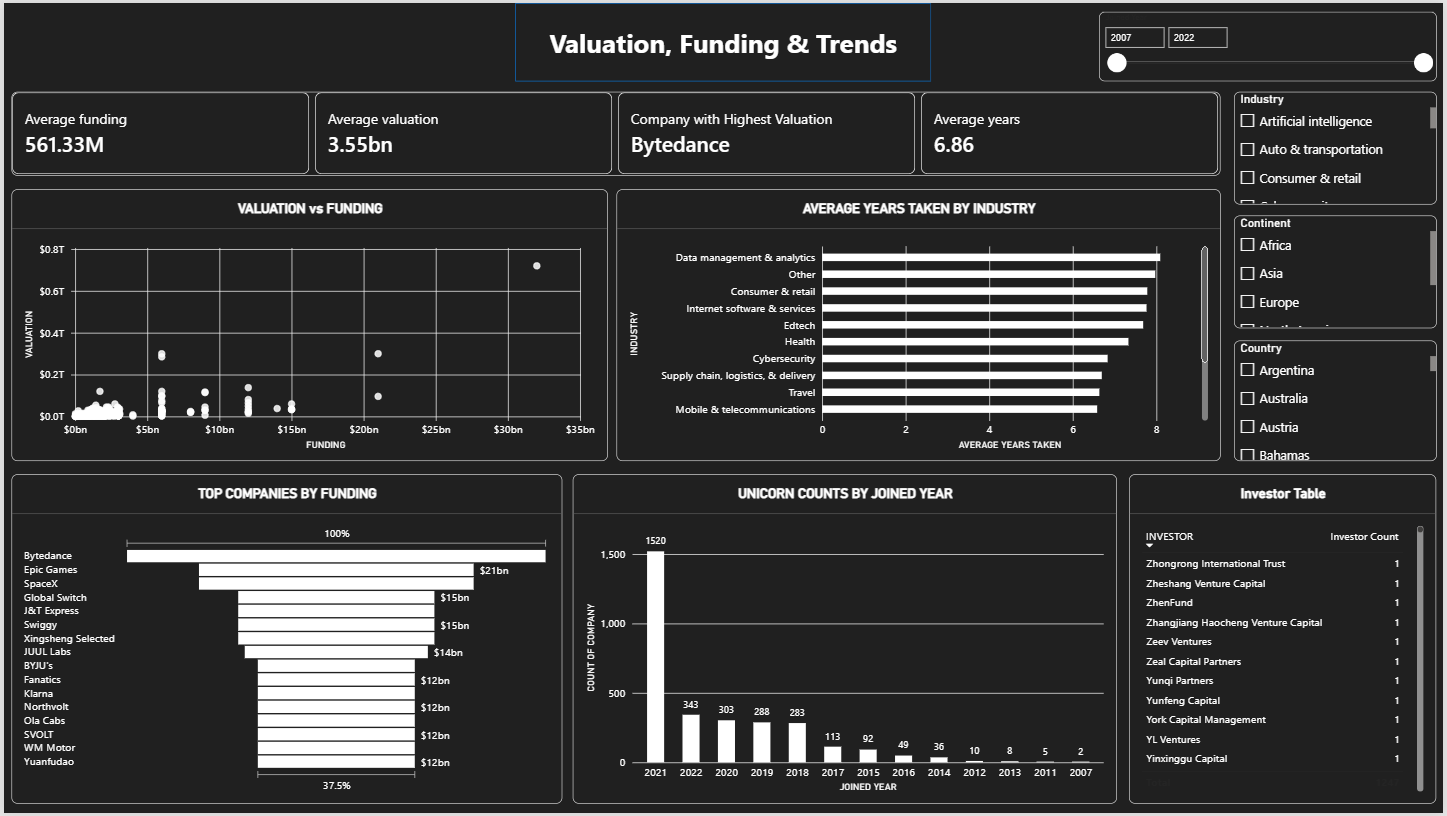

The page's visual inventory and layout, read from the dashboard file:
{"tool":"powerbi","page":{"name":"date and investor  analysis","canvas":[1920,1080],"ordinal":2},"visuals":[{"type":"barChart","title":"AVERAGE YEARS TAKEN BY INDUSTRY","fields":{"Category":["unicorn.Industry"],"Y":["Avg(unicorn.Years Taken)"]},"box":[816.3,247.7,805.8,362.8],"z":0},{"type":"cardVisual","fields":{"Data":["unicorn.Average funding","unicorn.Average valuation","unicorn.Company with Highest Valuation","unicorn.Average years"]},"box":[10.5,118.6,1611.6,111.6],"z":1000},{"type":"shape","box":[682,0,554.7,104.7],"z":2000},{"type":"funnel","title":"TOP COMPANIES BY FUNDING","fields":{"Category":["unicorn.Company"],"Y":["Sum(unicorn.Funding)"]},"box":[10.5,627.9,734.3,439.5],"z":3000},{"type":"scatterChart","title":"VALUATION vs FUNDING","fields":{"Category":["unicorn.Company"],"X":["Sum(unicorn.Funding)"],"Y":["Sum(unicorn.Valuation)"]},"box":[10.5,247.7,795.4,362.8],"z":4000},{"type":"tableEx","title":"Investor Table","fields":{"Values":["unicorn.INVESTOR","unicorn.Investor Count"]},"box":[1500,627.9,409.9,439.5],"z":5000},{"type":"clusteredColumnChart","title":"UNICORN COUNTS BY JOINED YEAR","fields":{"Category":["unicorn.Joined Year"],"Y":["CountNonNull(unicorn.Company)"]},"box":[758.7,627.9,725.6,439.5],"z":6000},{"type":"slicer","fields":{"Values":["unicorn.Joined Year"]},"box":[1459.9,12.2,450,92.4],"z":7000},{"type":"slicer","fields":{"Values":["unicorn.Industry"]},"box":[1639.5,118.6,270.3,150],"z":8000},{"type":"slicer","fields":{"Values":["unicorn.Country"]},"box":[1639.5,450,270.3,160.5],"z":9000},{"type":"slicer","fields":{"Values":["unicorn.Continent"]},"box":[1639.5,282.6,270.3,150],"z":10000}]}

Visuals, with their boxes in screenshot pixels (x1, y1, x2, y2), scaled from the page's 1920x1080 canvas onto the 1447x816 screenshot:
"AVERAGE YEARS TAKEN BY INDUSTRY" barChart: <bbox>615, 187, 1222, 461</bbox>
cardVisual - unicorn.Average funding x unicorn.Average valuation: <bbox>8, 90, 1222, 174</bbox>
shape: <bbox>514, 0, 932, 79</bbox>
"TOP COMPANIES BY FUNDING" funnel: <bbox>8, 474, 561, 806</bbox>
"VALUATION vs FUNDING" scatterChart: <bbox>8, 187, 607, 461</bbox>
"Investor Table" tableEx: <bbox>1130, 474, 1439, 806</bbox>
"UNICORN COUNTS BY JOINED YEAR" clusteredColumnChart: <bbox>572, 474, 1119, 806</bbox>
slicer - unicorn.Joined Year: <bbox>1100, 9, 1439, 79</bbox>
slicer - unicorn.Industry: <bbox>1236, 90, 1439, 203</bbox>
slicer - unicorn.Country: <bbox>1236, 340, 1439, 461</bbox>
slicer - unicorn.Continent: <bbox>1236, 214, 1439, 327</bbox>
